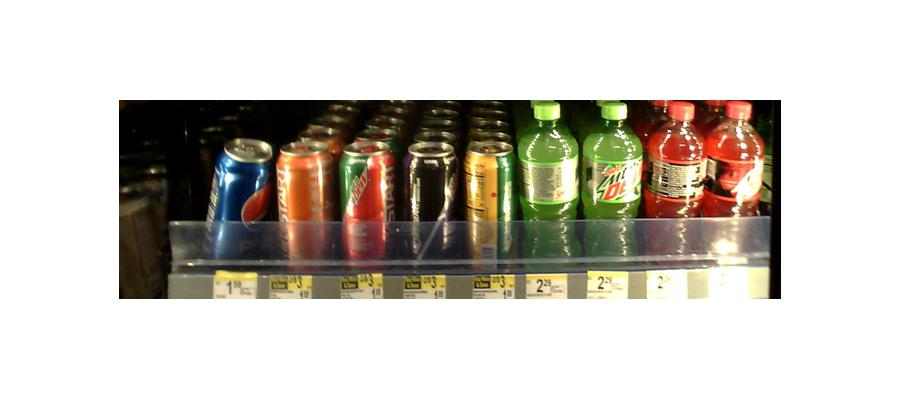bottle: (703, 98, 765, 262), (521, 101, 580, 266), (583, 101, 641, 262), (644, 100, 703, 258), (201, 138, 273, 263), (462, 129, 518, 268), (401, 139, 458, 266), (276, 136, 333, 263), (337, 142, 396, 262)
